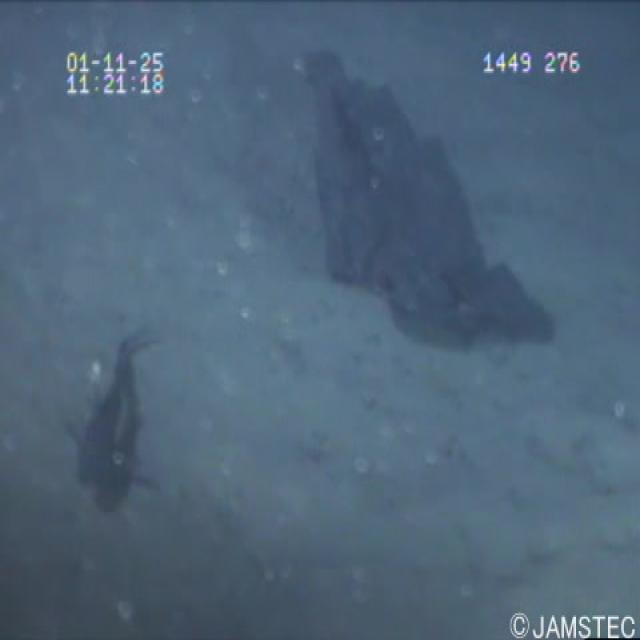plastic: (284, 39, 579, 391)
